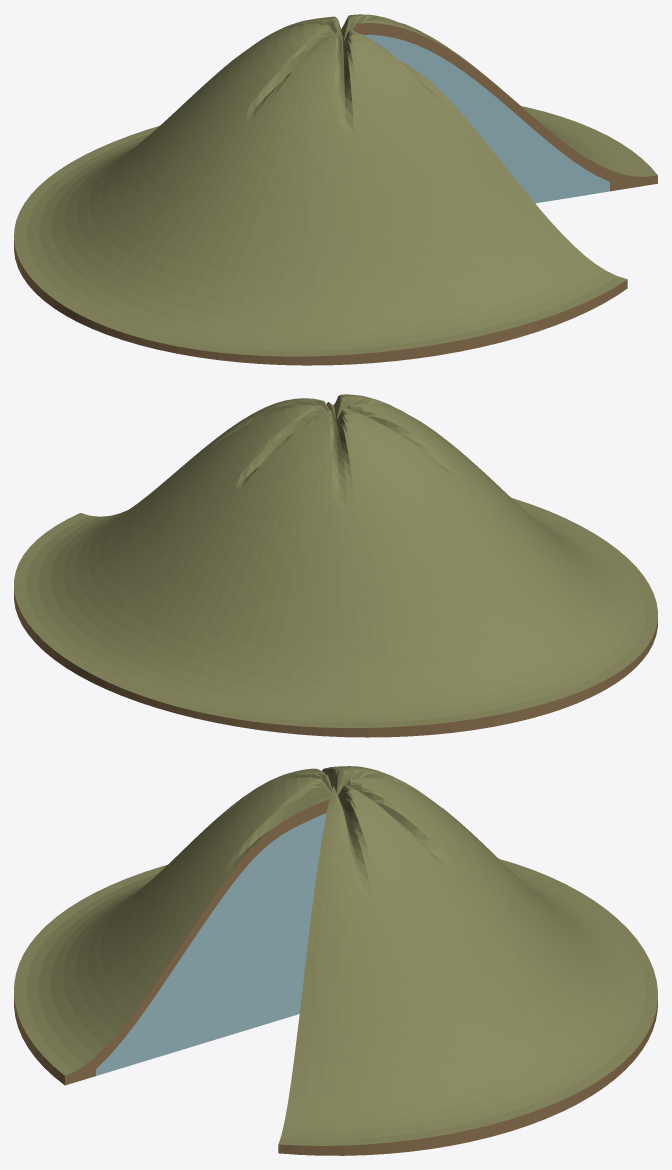
The picture shows the model from 3 angles, top to bottom: view 1: azimuth 30°, elevation 25°; view 2: azimuth 150°, elevation 25°; view 3: azimuth 270°, elevation 25°; orthographic projection. The views are drawn at different scales.
Parts seen in each view (by area): view 1: continuous_pingo_cutaway_turf; view 2: continuous_pingo_cutaway_turf; view 3: continuous_pingo_cutaway_turf.
Boxes of the visible parts, box(x1,y1,x2,y2) form: continuous_pingo_cutaway_turf: box(14, 14, 657, 365); continuous_pingo_cutaway_turf: box(14, 394, 657, 737); continuous_pingo_cutaway_turf: box(14, 766, 657, 1155).
Size of the model in its own units: 35.99 by 12.34 by 32.03.
